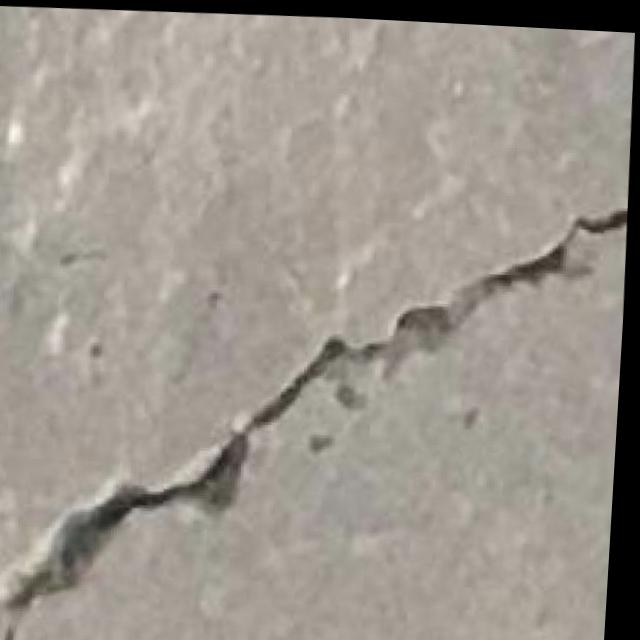Crack: (0, 170, 632, 640)
